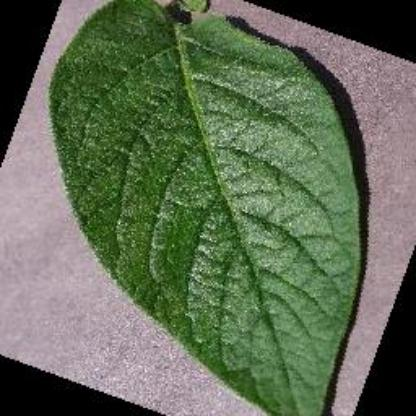Healthy-plant: (50, 2, 368, 416)
